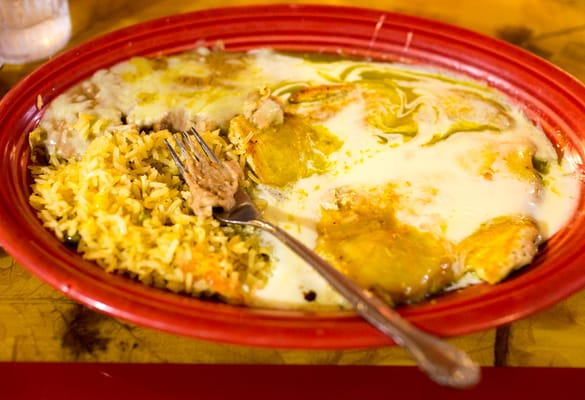sushi: (3, 28, 584, 387)
